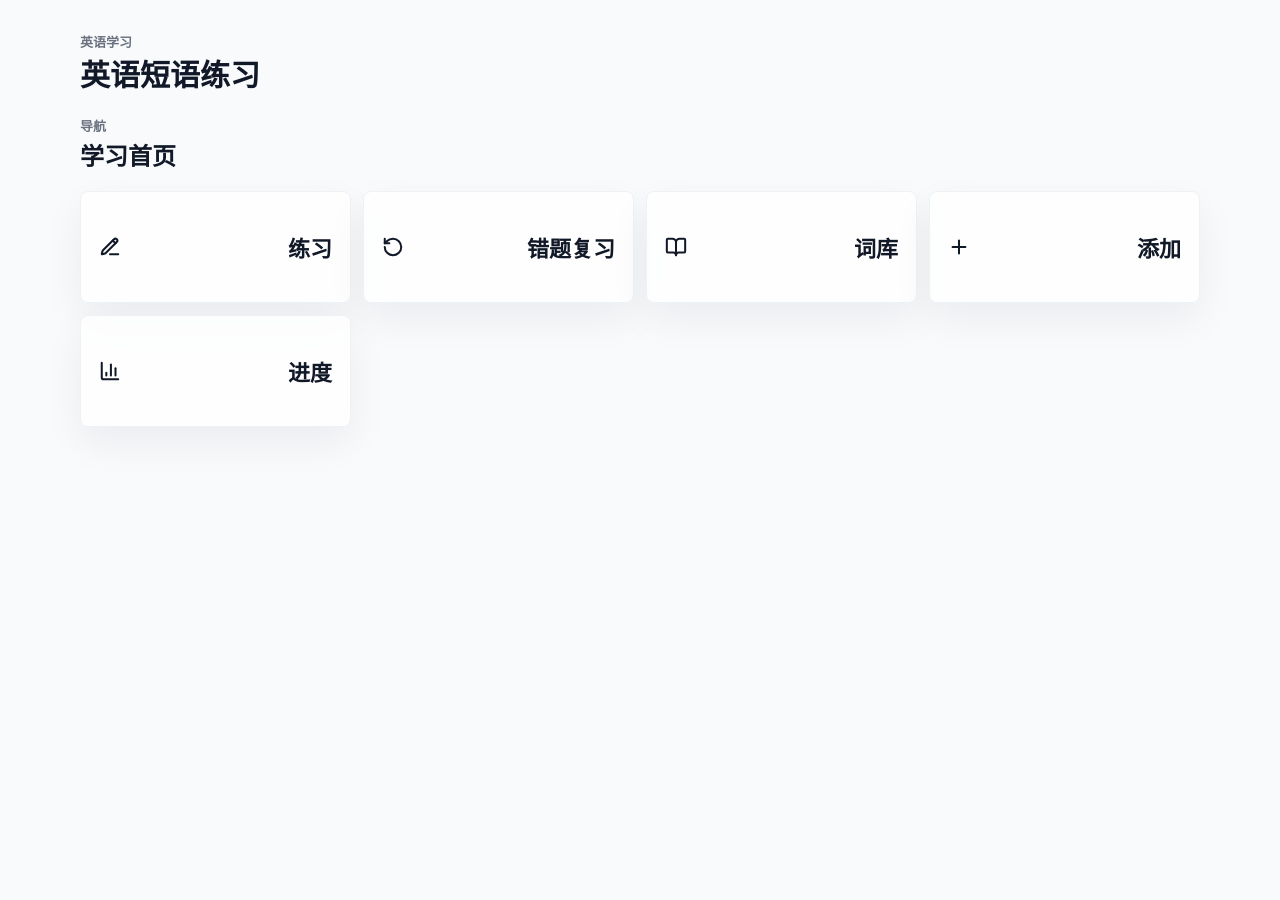
Test: App › submits a sentence fill-in answer and records progress
The width and height of the screenshot is (1280, 900).
Click the button "练习". click: (310, 249)
box: [80, 191, 351, 303]
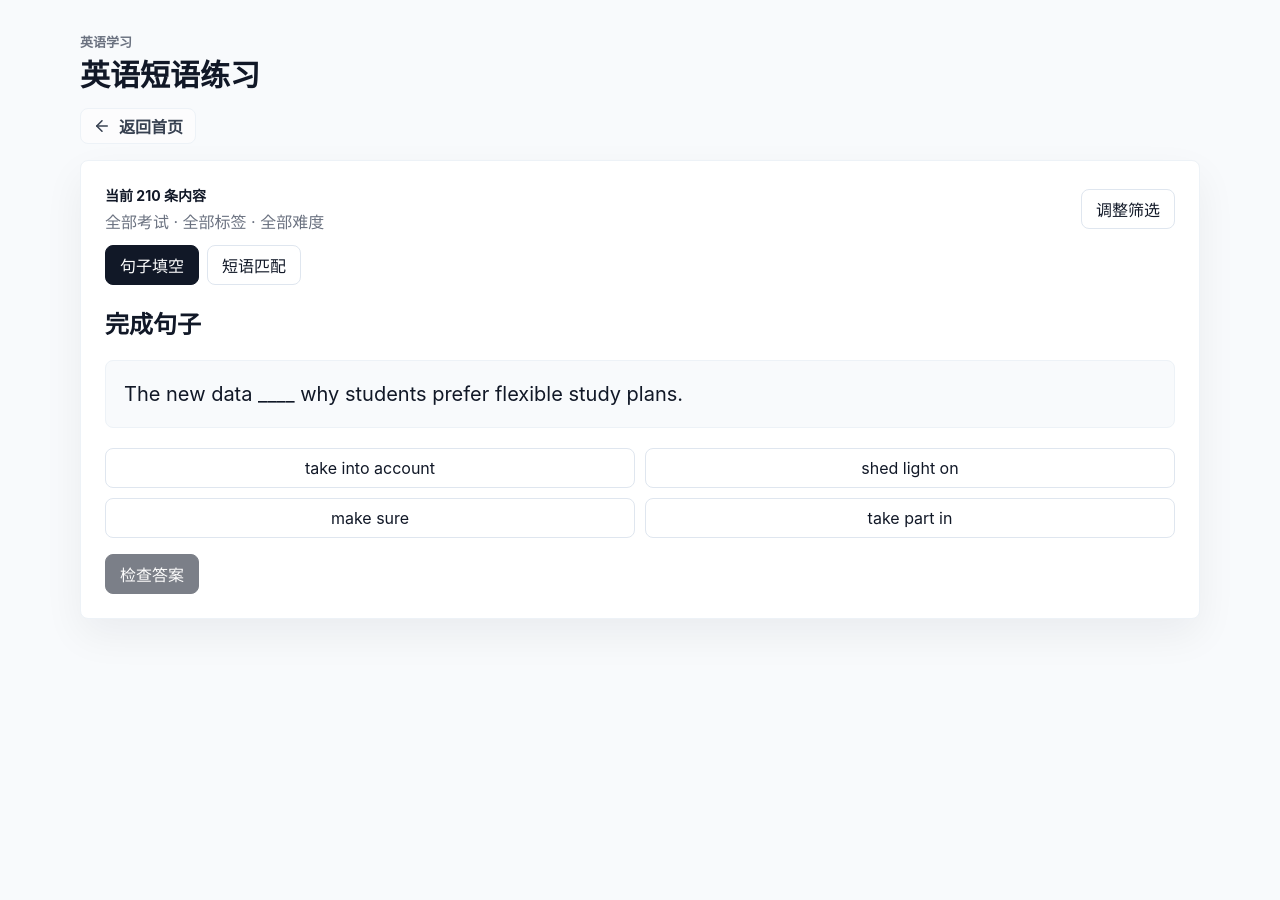
Click the button "shed light on". click: (910, 468)
box: [645, 448, 1175, 488]
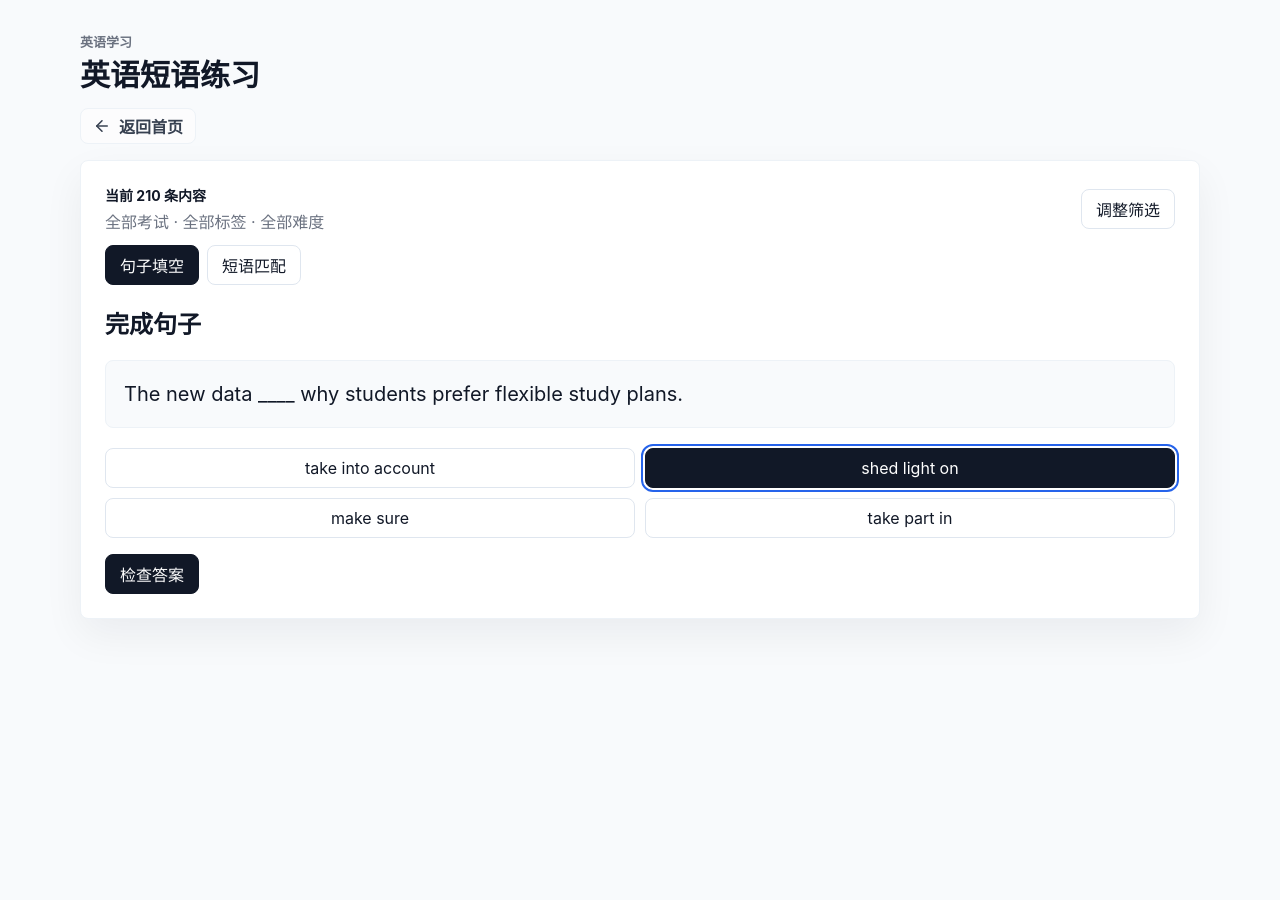
Click the button "检查答案". click: (152, 574)
box: [105, 554, 199, 594]
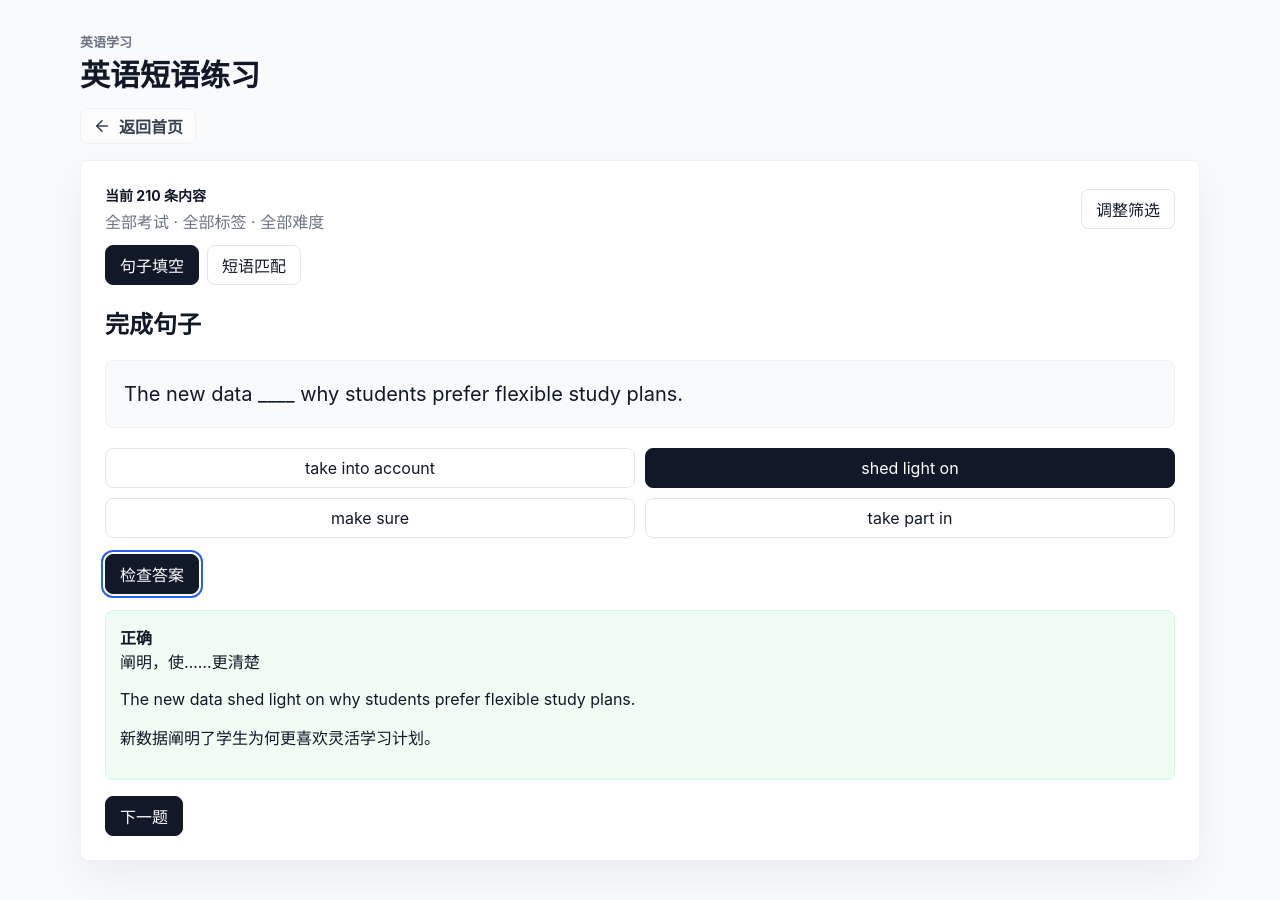
Expected: the text "正确" is shown, [120, 628, 152, 648]
Expected: the text "阐明，使……更清楚" is shown, [120, 652, 260, 672]
Click the button "返回首页". click: (138, 126)
box: [80, 108, 196, 144]
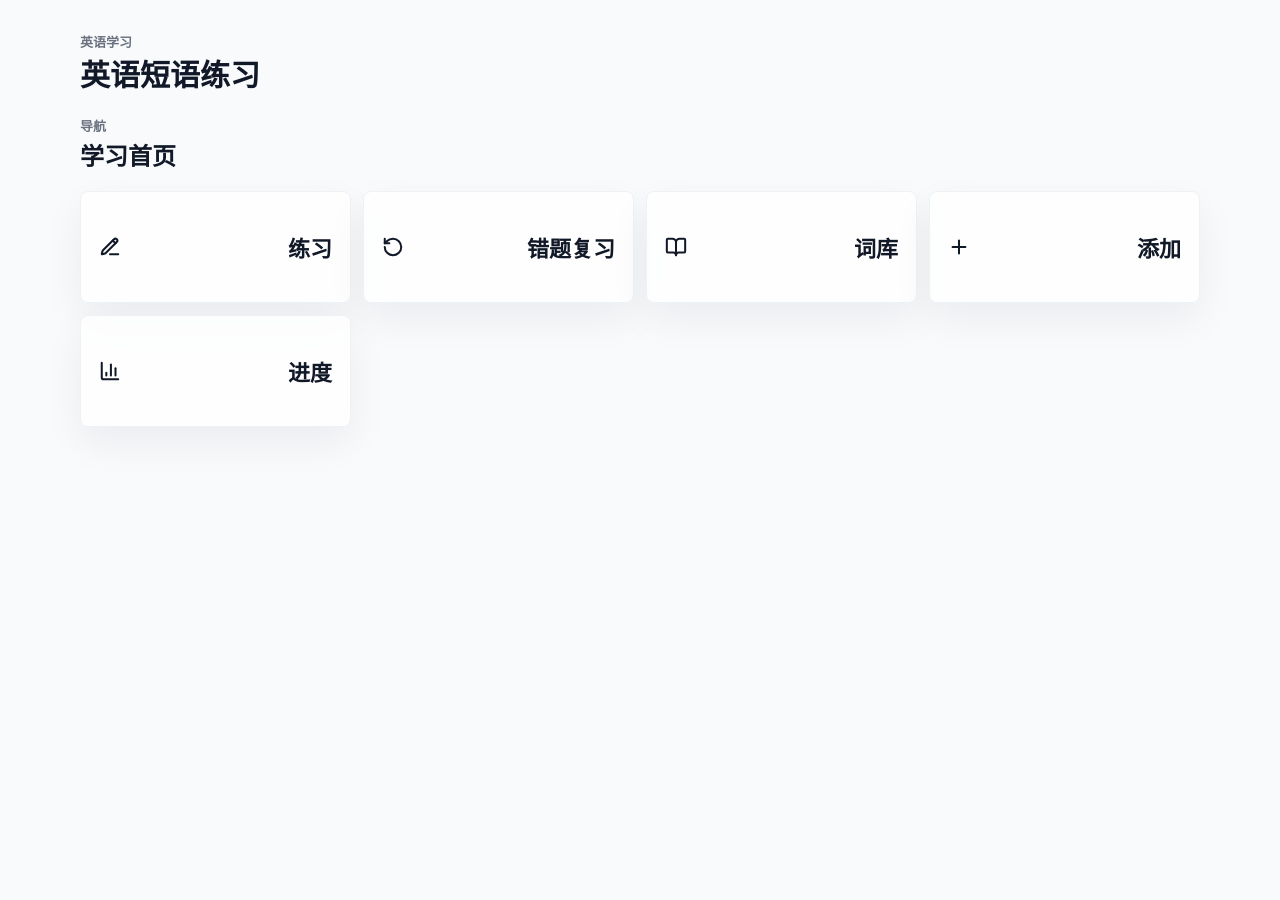
Click the button "进度". click: (310, 373)
box: [80, 315, 351, 427]
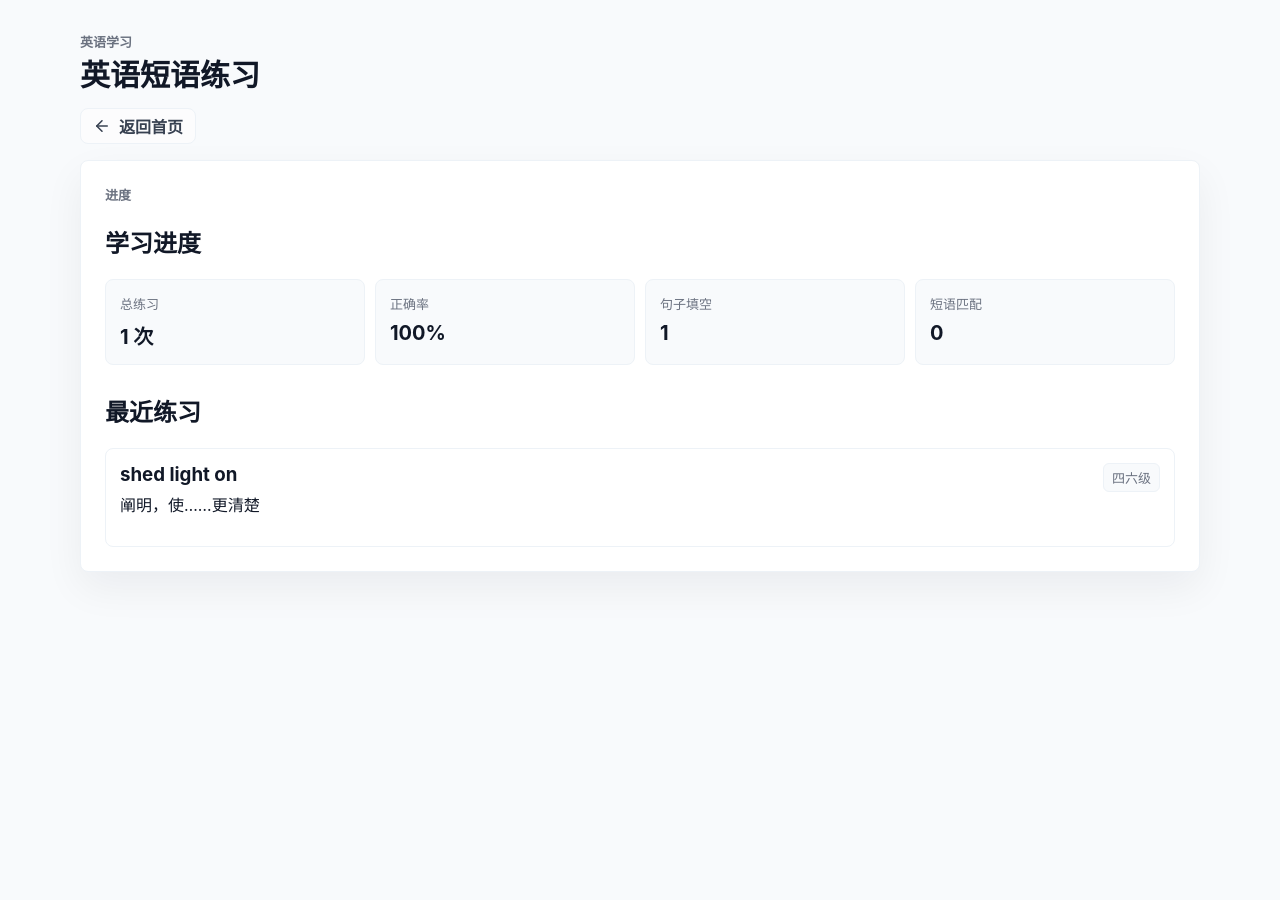
Expected: the text "1 次" is shown, [120, 325, 153, 349]
Expected: the text "100%" is shown, [390, 321, 446, 345]
